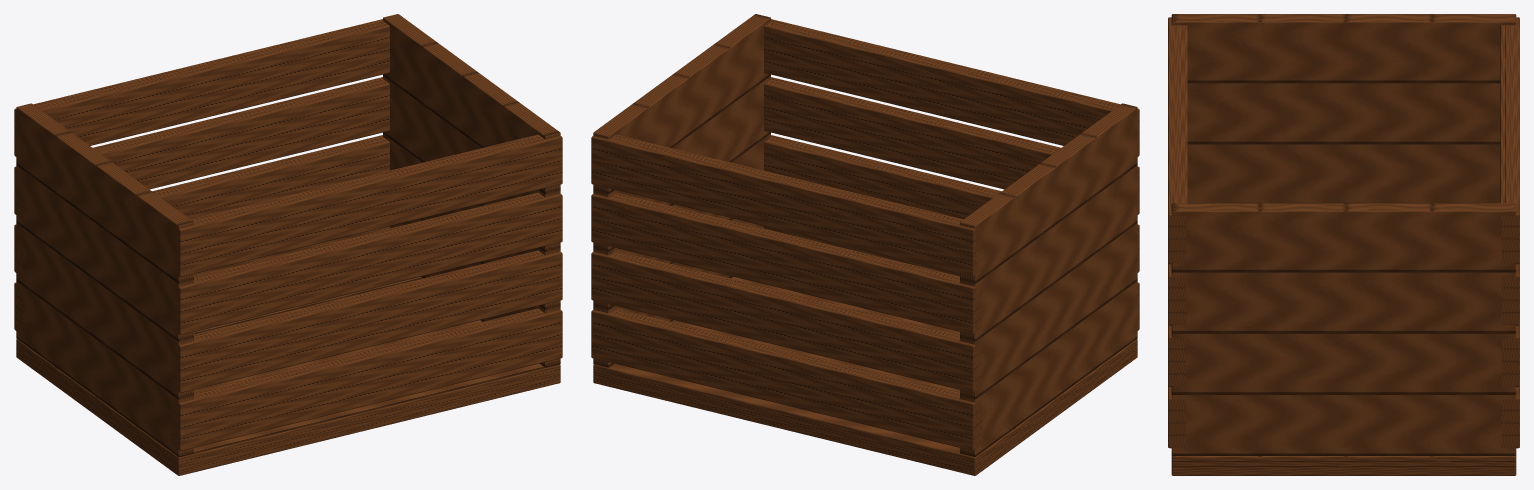
Rendered from scavengers-loot-library-packing-crate-dbf70b1b__2666.glb.
3 renders of one model, left to right at view 1: azimuth 30°, elevation 25°; view 2: azimuth 150°, elevation 25°; view 3: azimuth 270°, elevation 25°, orthographic. The views are drawn at different scales.
Parts seen in each view (by area): view 1: packing-crate; view 2: packing-crate; view 3: packing-crate.
Part boxes in pixels (left/top/right/bottom): packing-crate: left=14, top=14, right=562, bottom=475; packing-crate: left=591, top=14, right=1139, bottom=475; packing-crate: left=1168, top=14, right=1519, bottom=475.
Bounding box in the file's own units: 0.38 × 0.238 × 0.286.
1 material, 1 textured.
